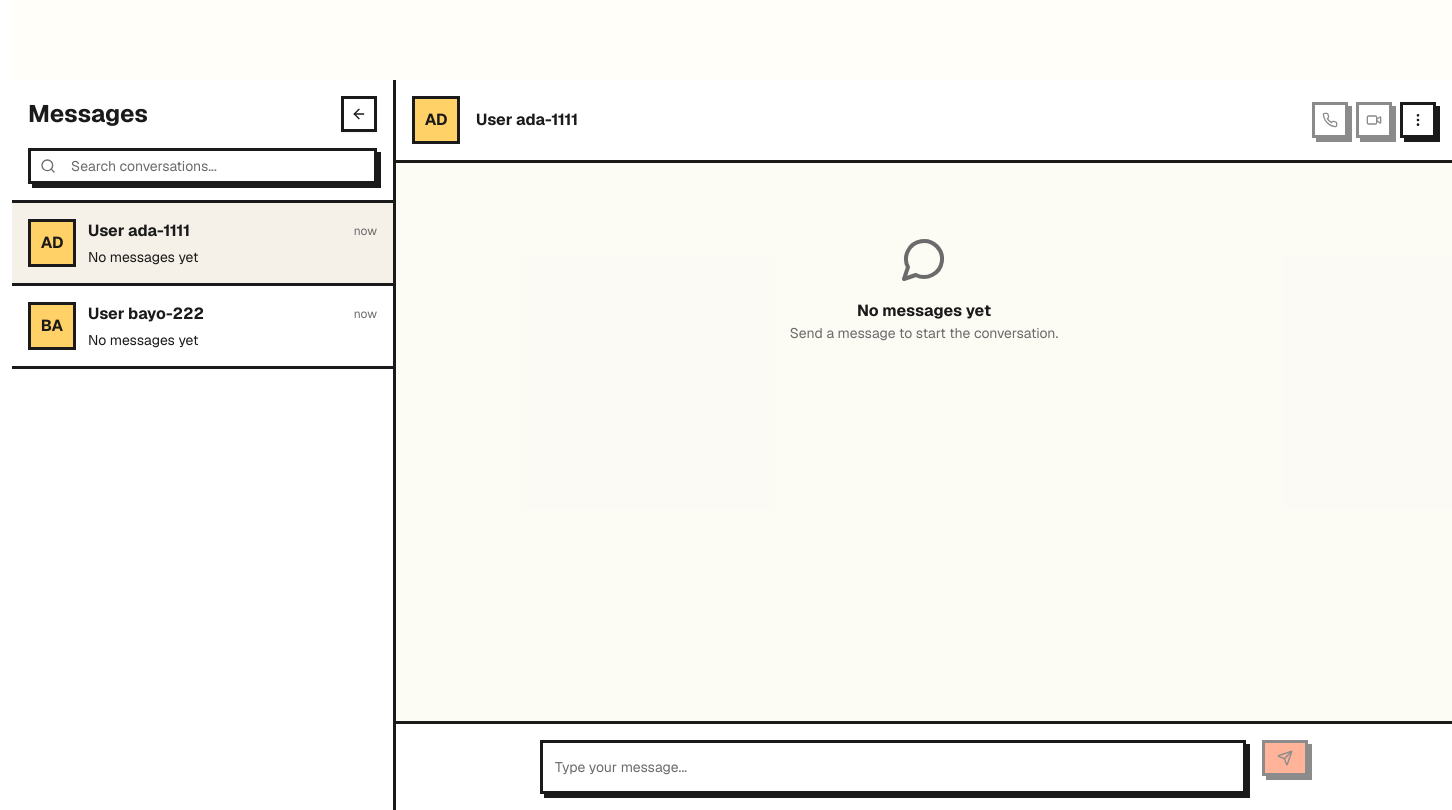
Test: MessagesPage › shows the message straight away and keeps it once the send succeeds
The image size is (1452, 810).
Expected: the 1st heading "User ada-1111" is shown, [476, 108, 578, 132]
Type "Hello!" into the field with placeholder "Type your message..." at (893, 767), box [540, 740, 1246, 794]
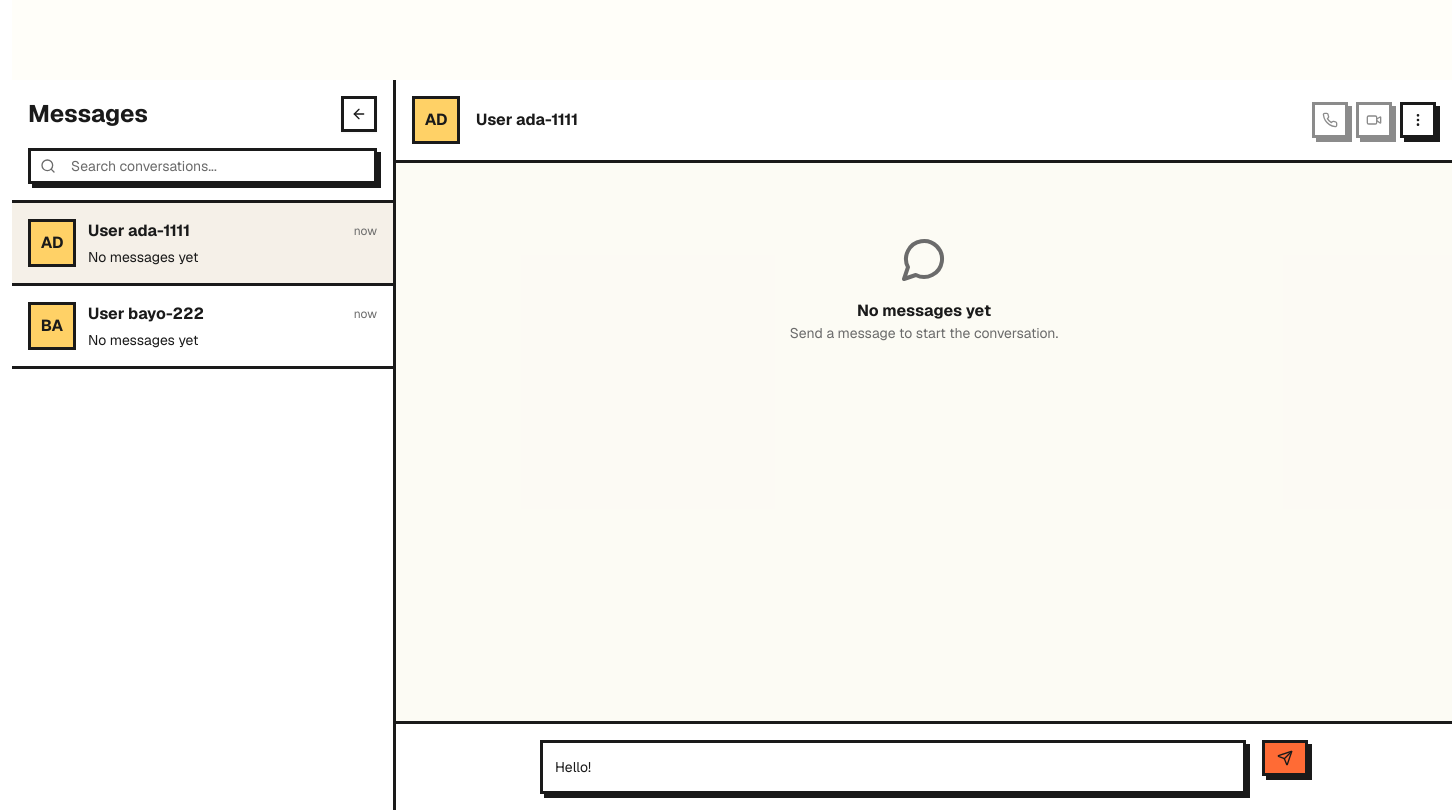
Click the button named "Send message" at (1285, 758), box [1262, 740, 1308, 776]
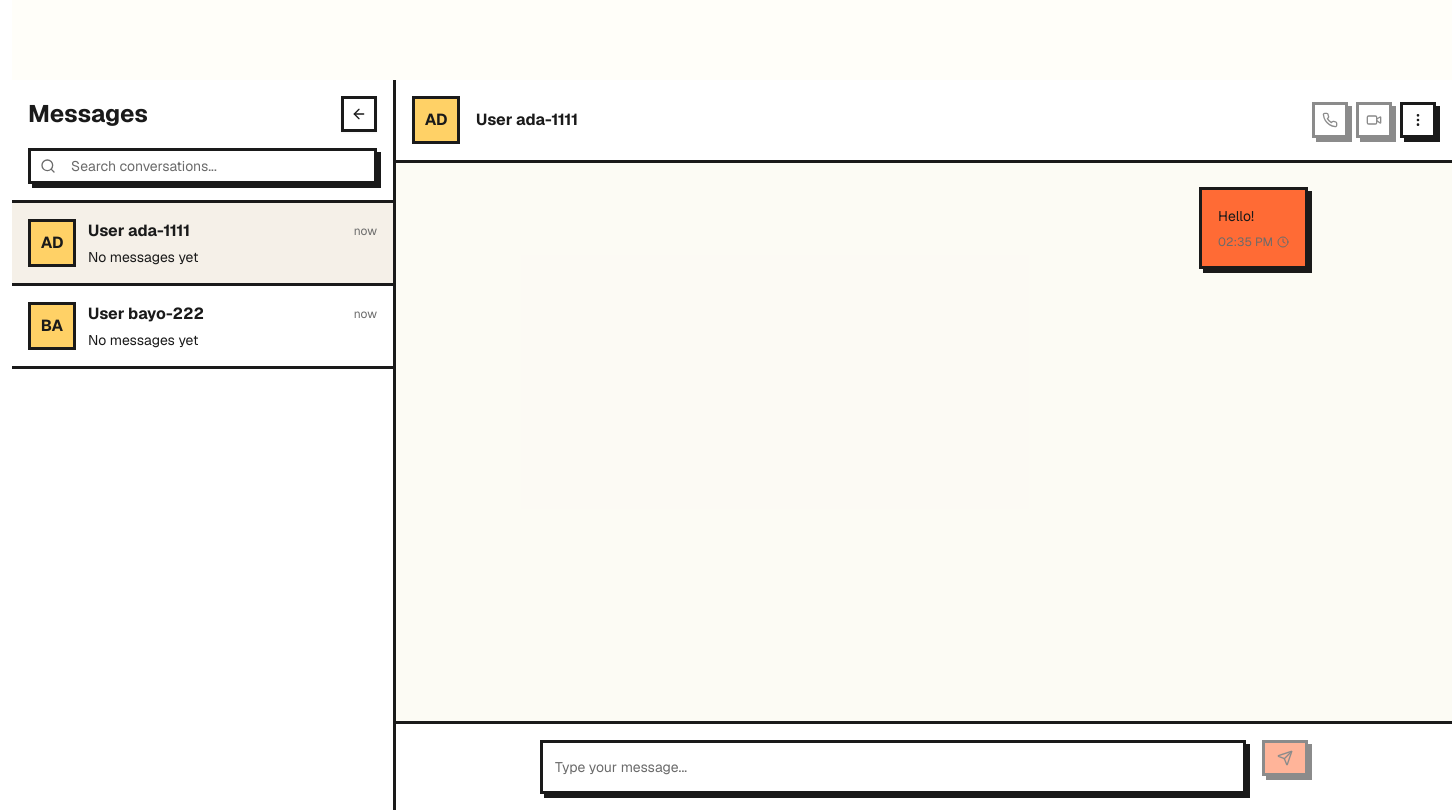
Result: the text "Hello!" is shown at [1218, 207, 1254, 225]
